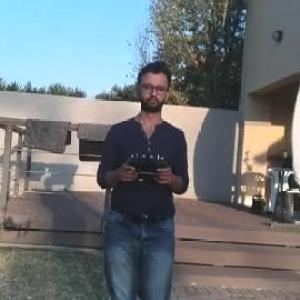follow: (90, 53, 192, 299)
